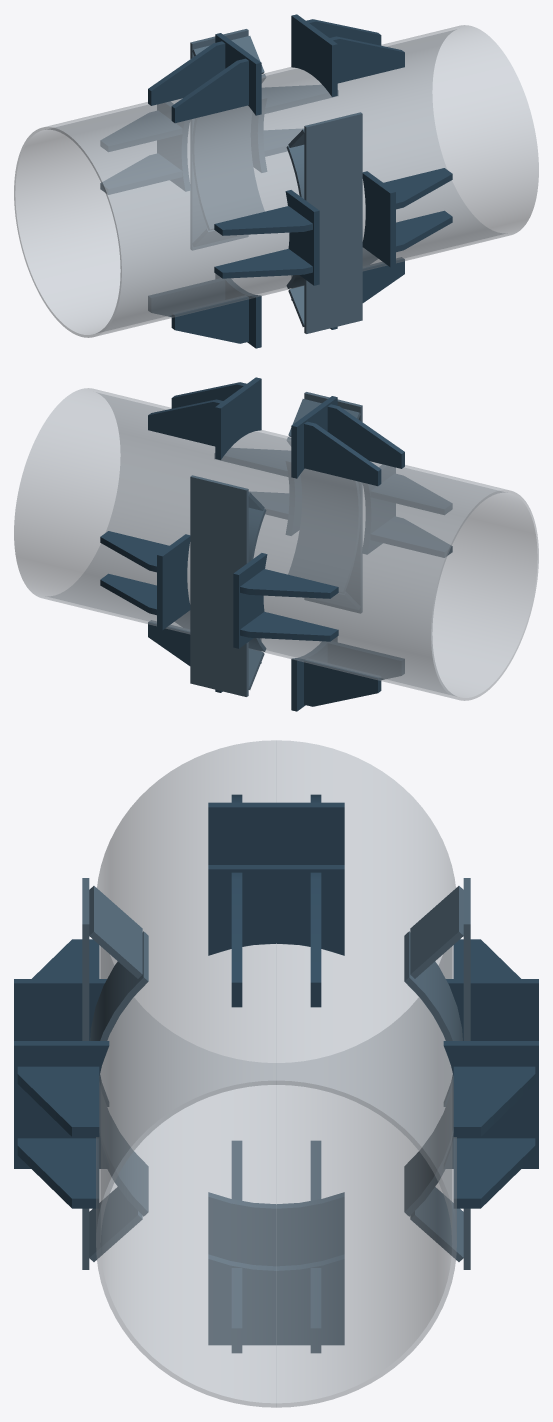
The model's file is TS-668.00.00-15-opora-dn530-ris2.glb.
3 views of the same model, one above another, from view 1: azimuth 30°, elevation 25°; view 2: azimuth 150°, elevation 25°; view 3: azimuth 270°, elevation 25° (orthographic). The views are drawn at different scales.
Visible parts, largest first — view 1: truba, bok_26, bok_29, upor_6, upor_17, upor_7, upor_1, upor_5, upor_3, upor_12, upor_11, upor_10 (+17 smaller); view 2: truba, bok_30, bok_25, upor_5, upor_18, upor_19, upor_1, upor_6, upor_2, upor_23, upor_24, upor_22 (+17 smaller); view 3: truba, upor_13, upor_1, upor_4, upor_16, bok_25, bok_29, upor_10, upor_22, upor_7, upor_19, upor_8 (+15 smaller).
Part boxes in pixels (<box>): truba: <box>14,25,538,337</box>; bok_26: <box>304,112,362,333</box>; bok_29: <box>192,74,265,230</box>; upor_6: <box>171,58,248,123</box>; upor_17: <box>171,295,248,343</box>; upor_7: <box>362,171,395,267</box>; upor_1: <box>291,14,337,96</box>; upor_5: <box>148,41,225,105</box>; upor_3: <box>330,36,404,83</box>; upor_12: <box>214,249,312,278</box>; upor_11: <box>214,206,312,235</box>; upor_10: <box>285,190,319,285</box>; truba: <box>14,388,538,700</box>; bok_30: <box>190,475,248,696</box>; bok_25: <box>287,437,360,593</box>; upor_5: <box>304,421,381,486</box>; upor_18: <box>304,658,381,706</box>; upor_19: <box>157,534,190,630</box>; upor_1: <box>215,377,261,459</box>; upor_6: <box>327,404,404,468</box>; upor_2: <box>148,399,222,446</box>; upor_23: <box>240,612,338,641</box>; upor_24: <box>240,569,338,598</box>; upor_22: <box>233,553,267,648</box>; truba: <box>96,740,456,1407</box>; upor_13: <box>208,1254,344,1345</box>; upor_1: <box>208,865,344,955</box>; upor_4: <box>208,802,344,864</box>; upor_16: <box>208,1192,344,1266</box>; bok_25: <box>90,931,148,1216</box>; bok_29: <box>404,931,462,1216</box>; upor_10: <box>14,979,108,1106</box>; upor_22: <box>444,979,538,1106</box>; upor_7: <box>14,1041,109,1168</box>; upor_19: <box>443,1041,538,1168</box>; upor_8: <box>17,1066,99,1136</box>.
Size of the model in its own units: 1182 by 771 by 771.
